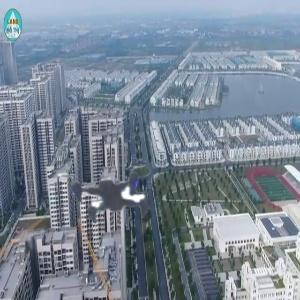drone: (35, 118, 192, 275)
